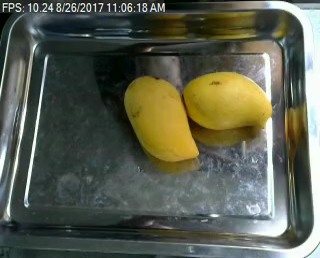Mango: (118, 73, 205, 159), (178, 72, 274, 129)
